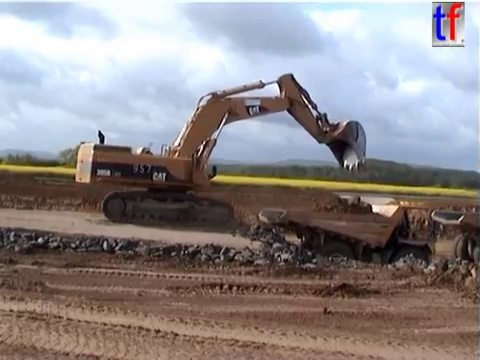excavator: (71, 70, 369, 230)
truck: (256, 198, 439, 283), (428, 207, 480, 274)
